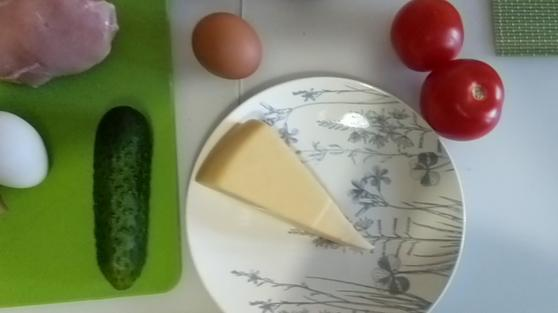cheese: (192, 119, 377, 258)
chicken_fillet: (1, 1, 123, 85)
cucumber: (90, 103, 156, 291)
egg: (192, 11, 263, 79), (1, 112, 56, 194)
tomato: (414, 59, 507, 144), (381, 3, 465, 70)
